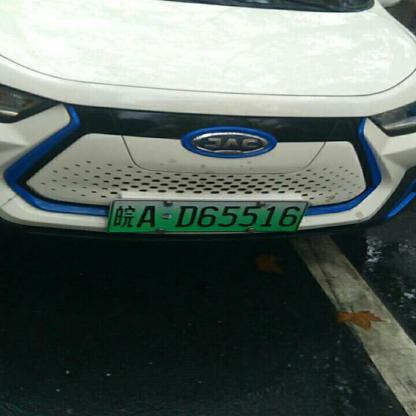lp: (108, 200, 306, 232)
